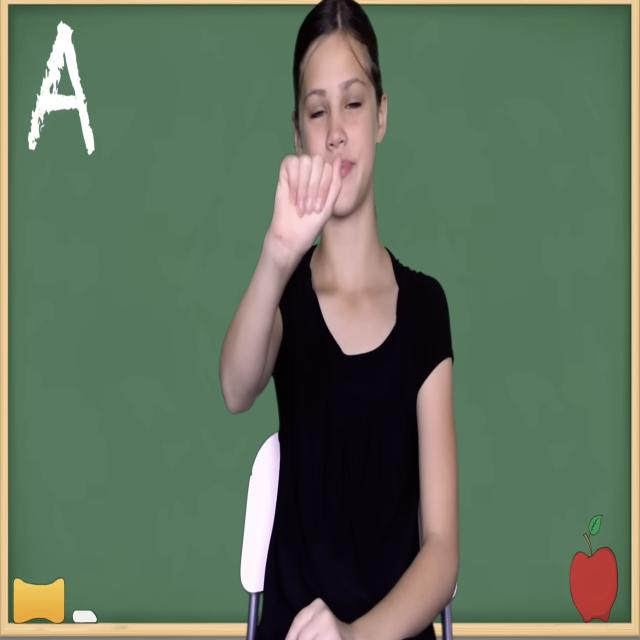A: (264, 135, 348, 270)
